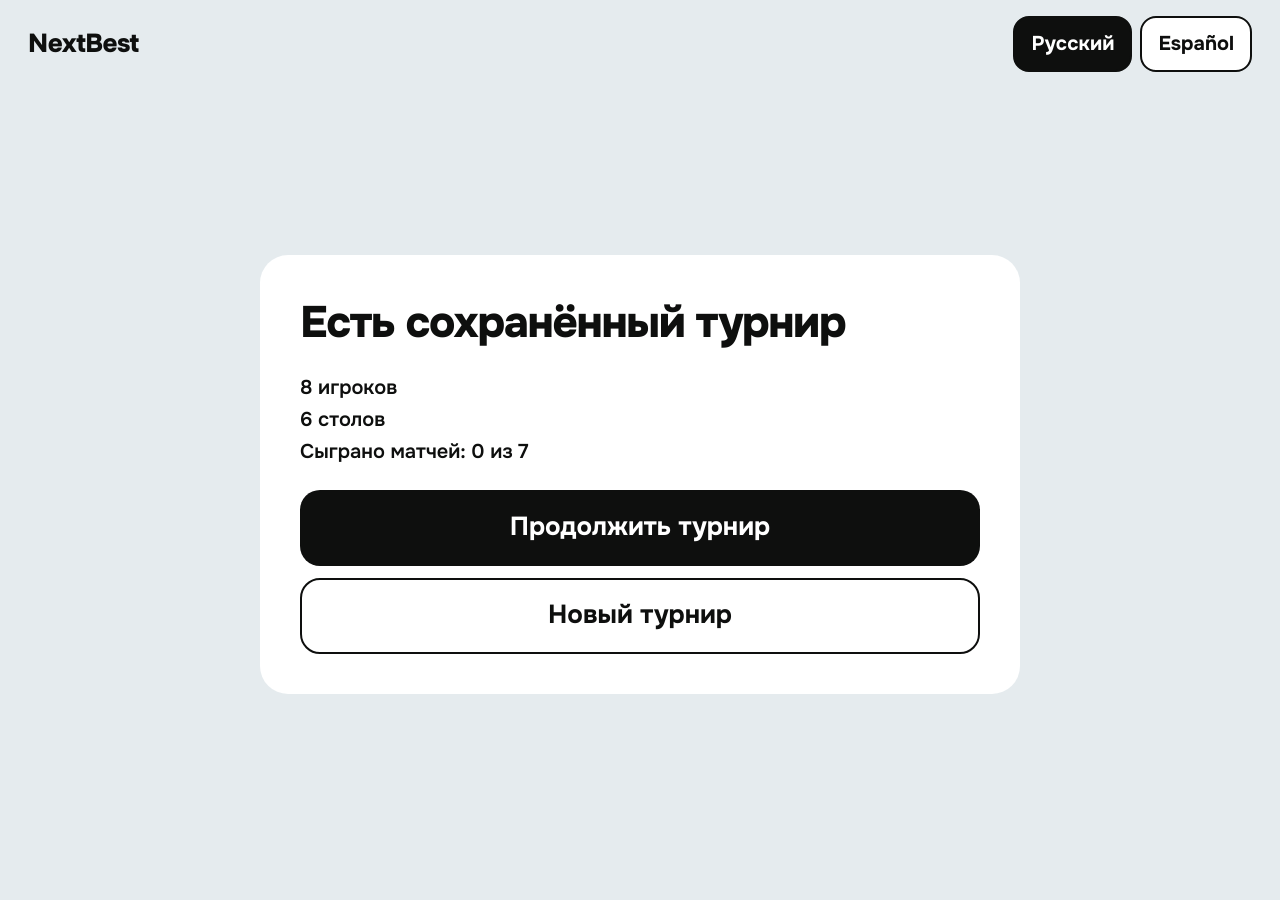
Test: ru interface › free tables and the empty results hint
Click the button "Продолжить турнир": coordinates (640, 528) [300, 490, 980, 566]
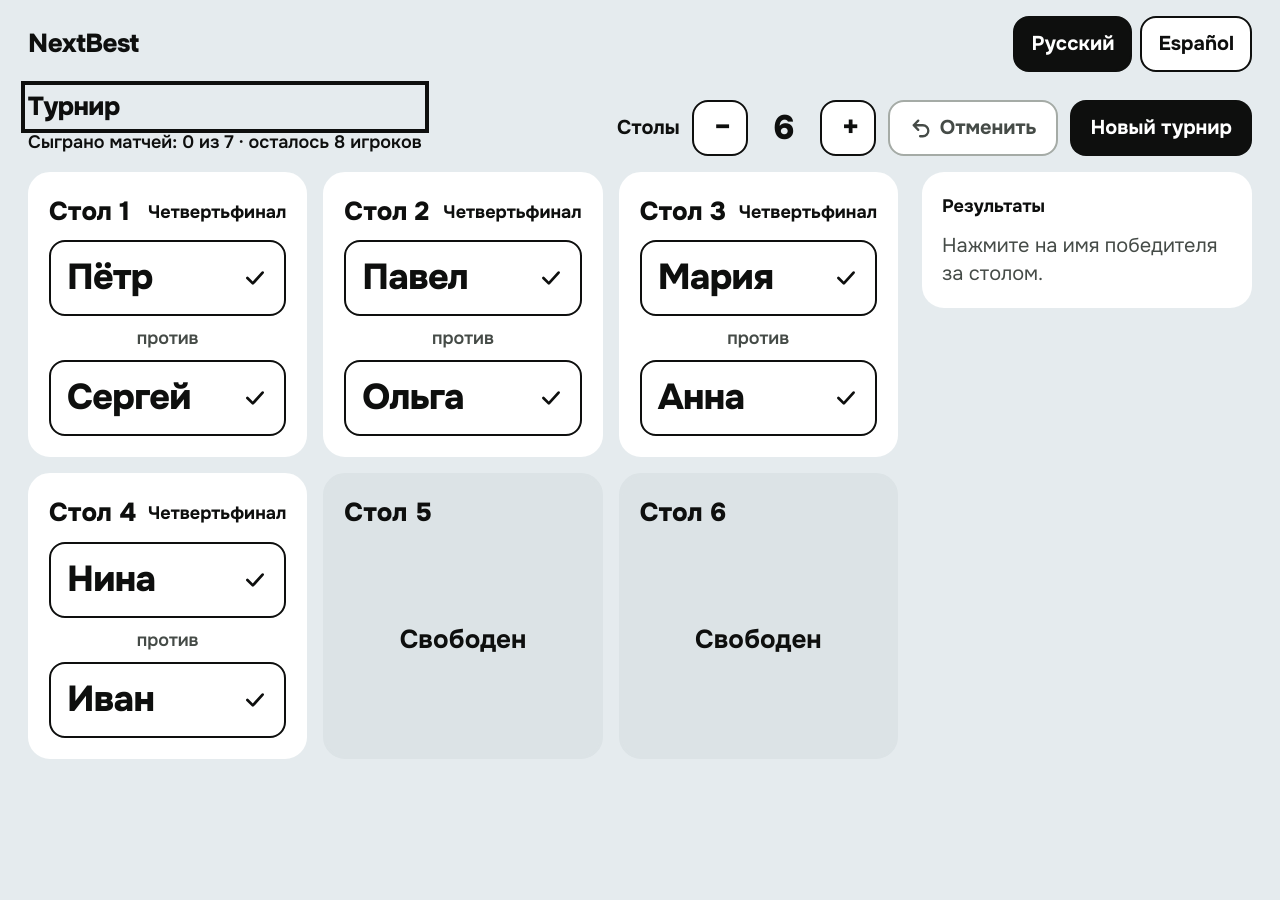
Expected: the text "Нажмите на имя победителя за столом." is shown, [942, 232, 1232, 288]
